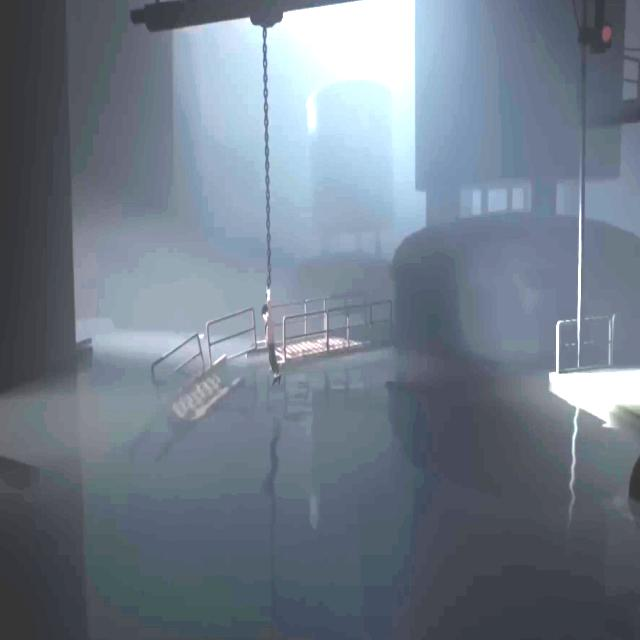boy: (261, 290, 281, 386)
